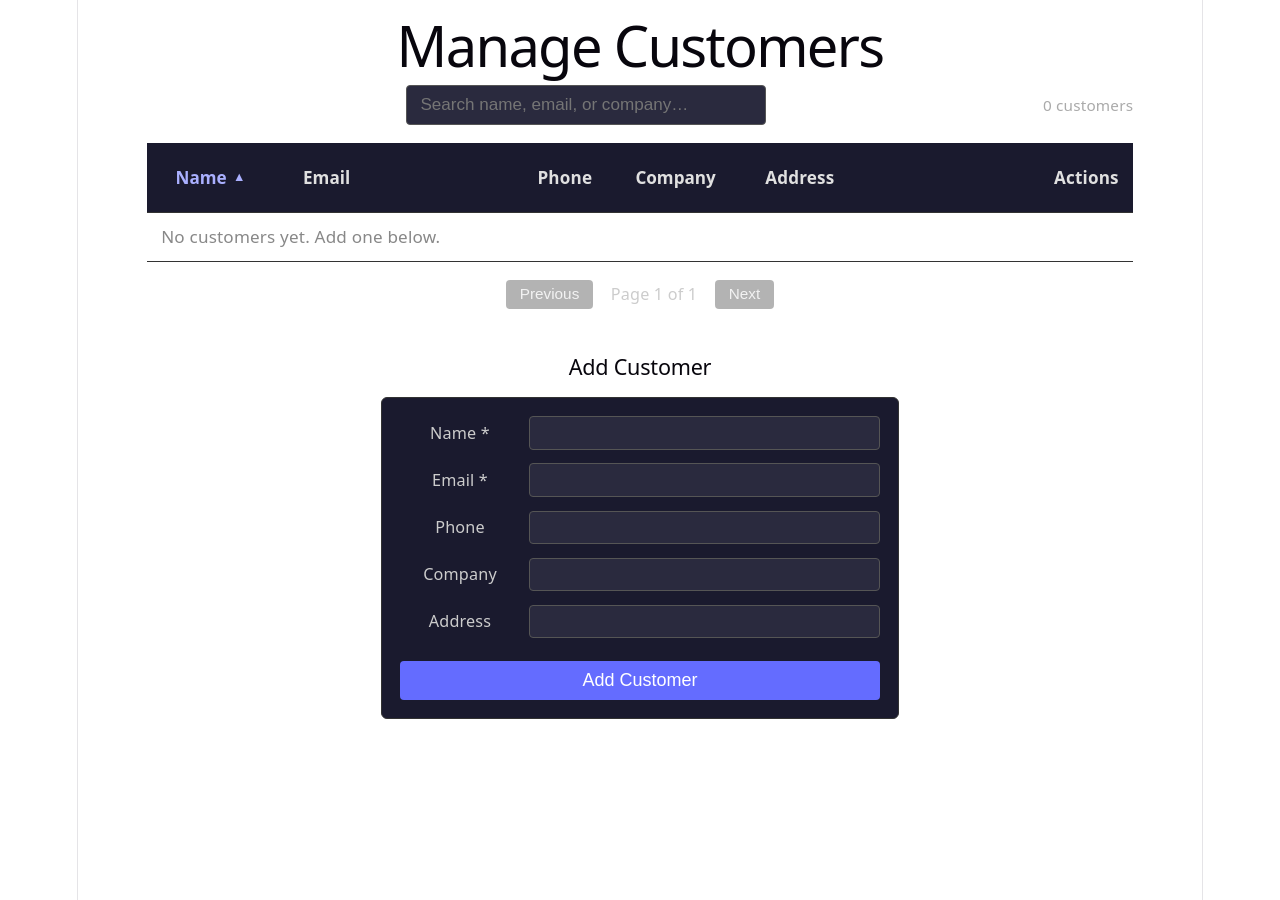
Customers page › shows an error when adding a customer fails
The width and height of the screenshot is (1280, 900).
Check: the text "No customers yet. Add one below." is shown, box top-left (147, 213), bottom-right (1133, 262)
Type "Carol" into the field labelled "Name *". click: {"x": 704, "y": 433}
box: top-left (529, 416), bottom-right (880, 450)
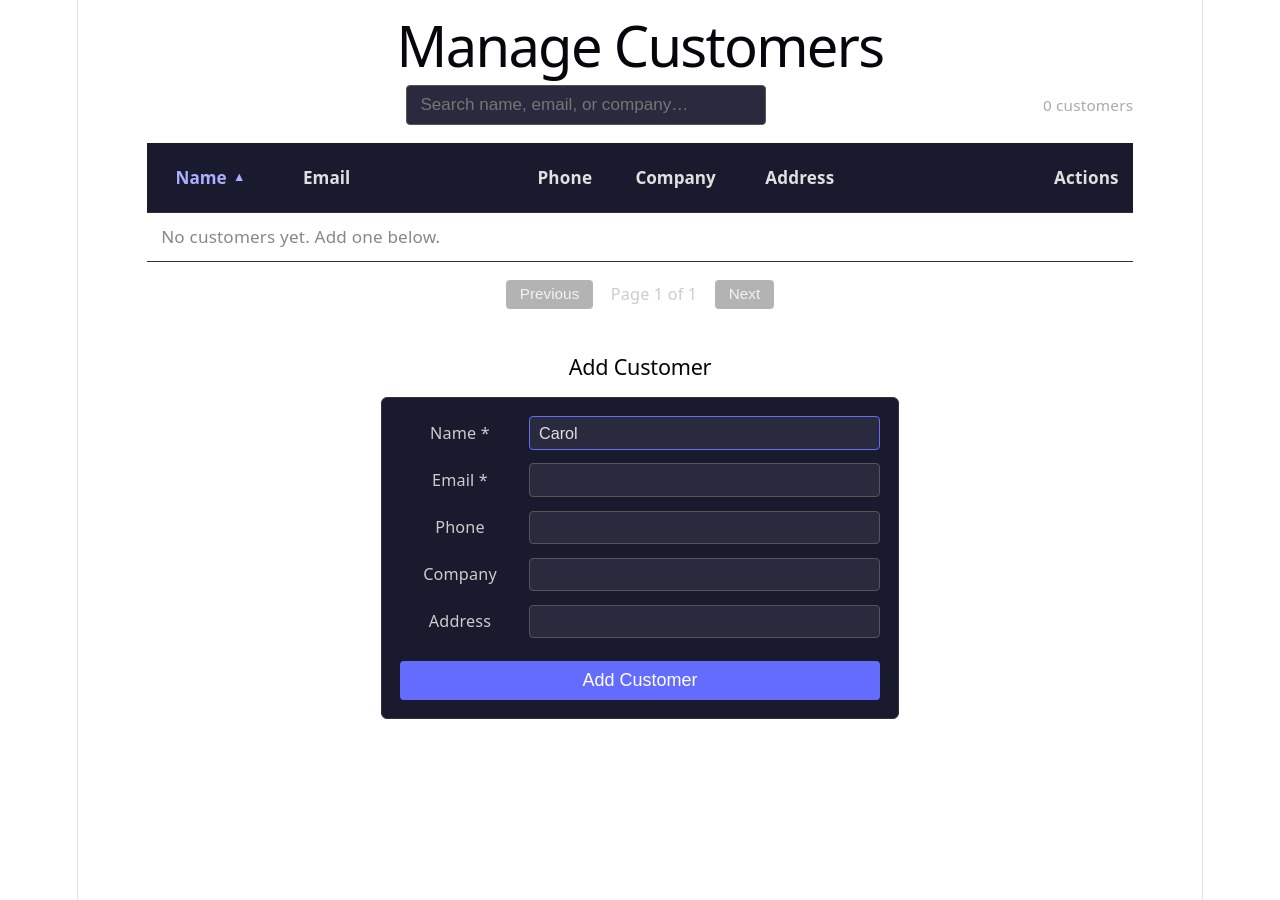
Type "carol@example.com" into the field labelled "Email *". click: {"x": 704, "y": 480}
box: top-left (529, 463), bottom-right (880, 497)
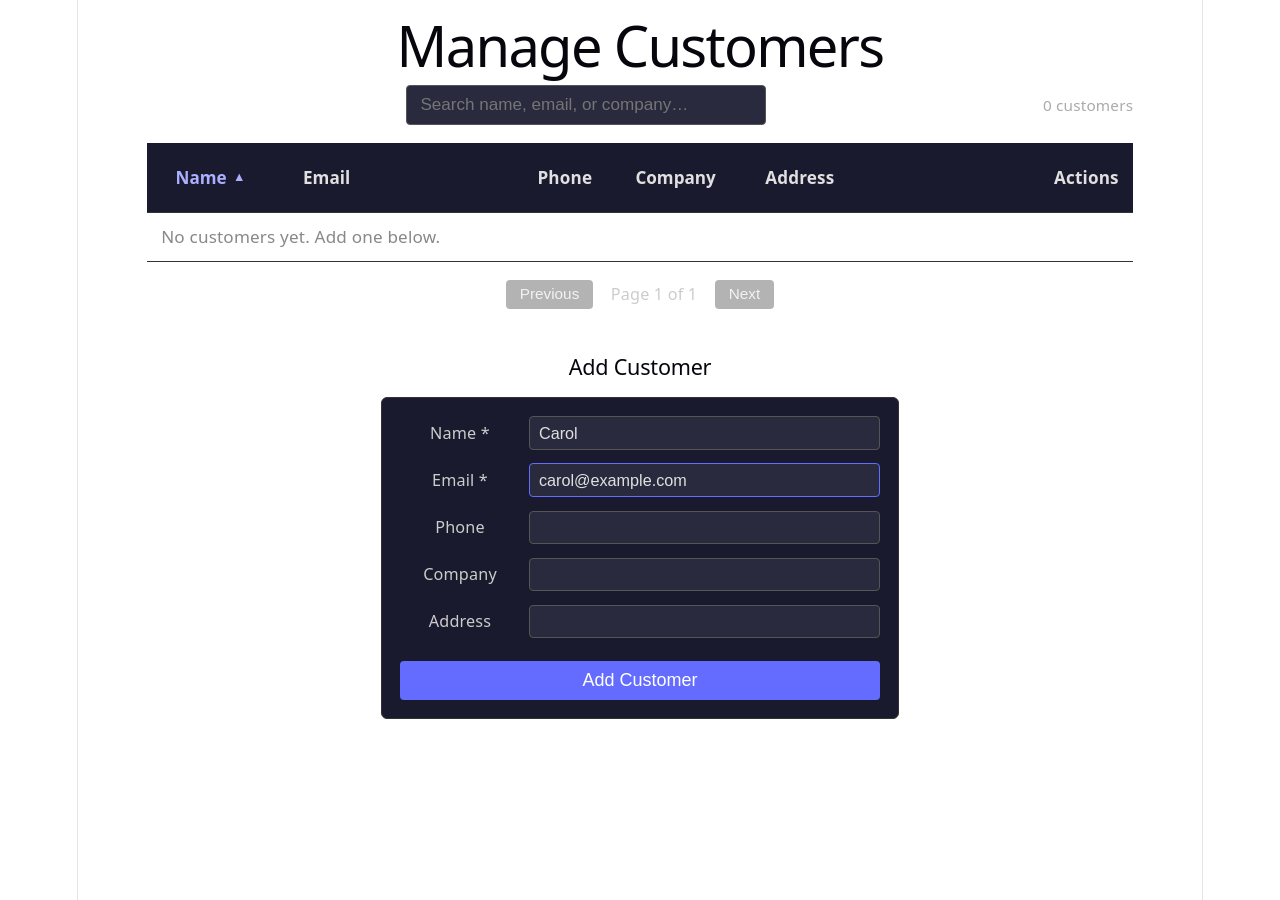
Click the button "Add Customer". click: {"x": 640, "y": 680}
box: top-left (400, 661), bottom-right (880, 700)
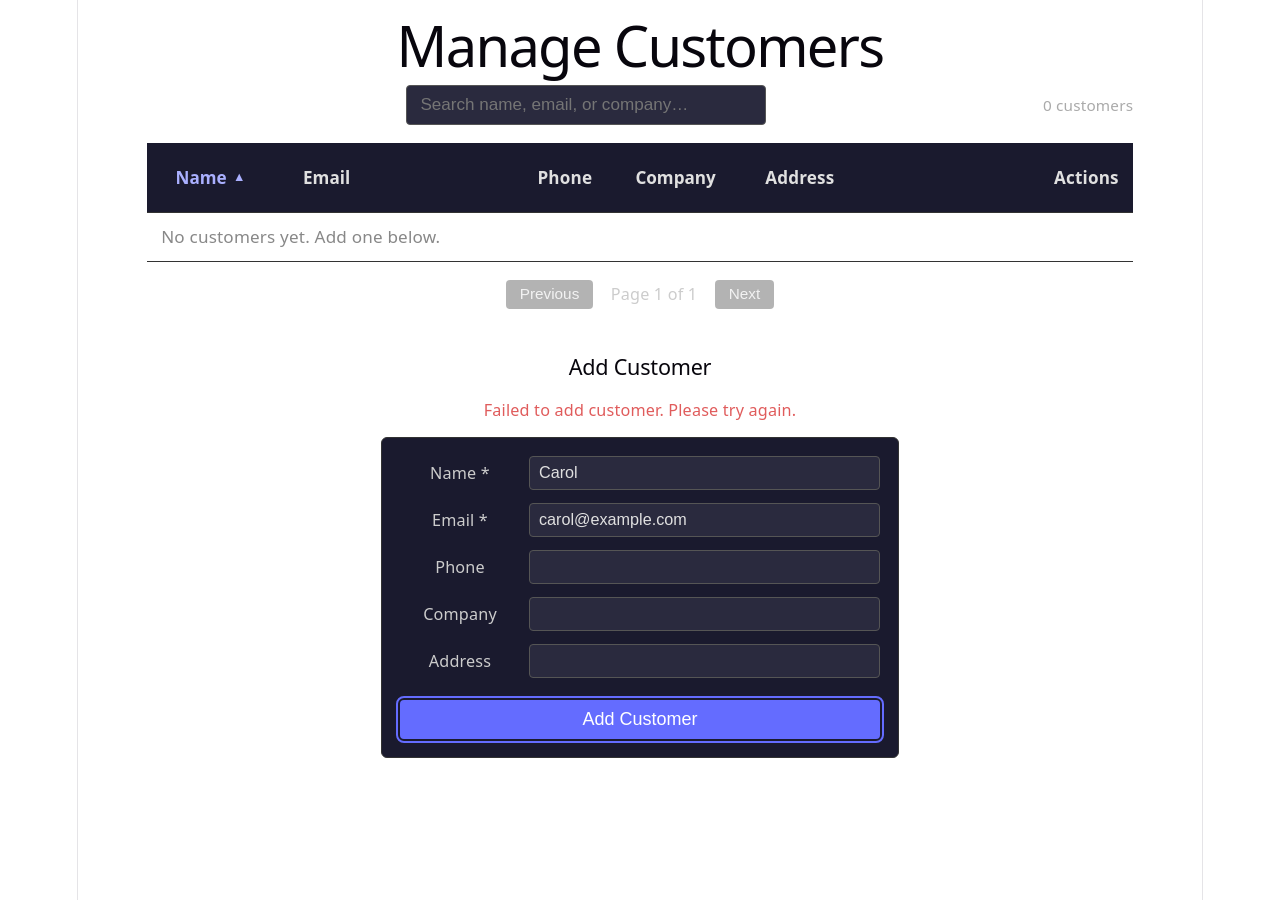
Check: the text "Failed to add customer. Please try again." is shown, box top-left (484, 397), bottom-right (796, 423)
